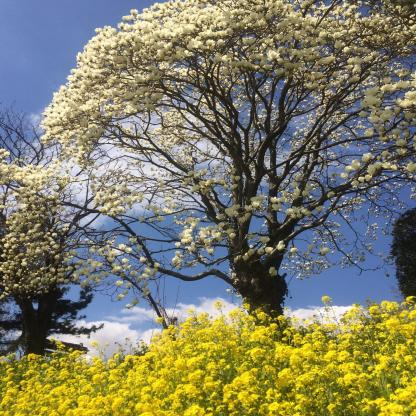Mokuren: (0, 0, 416, 307)
